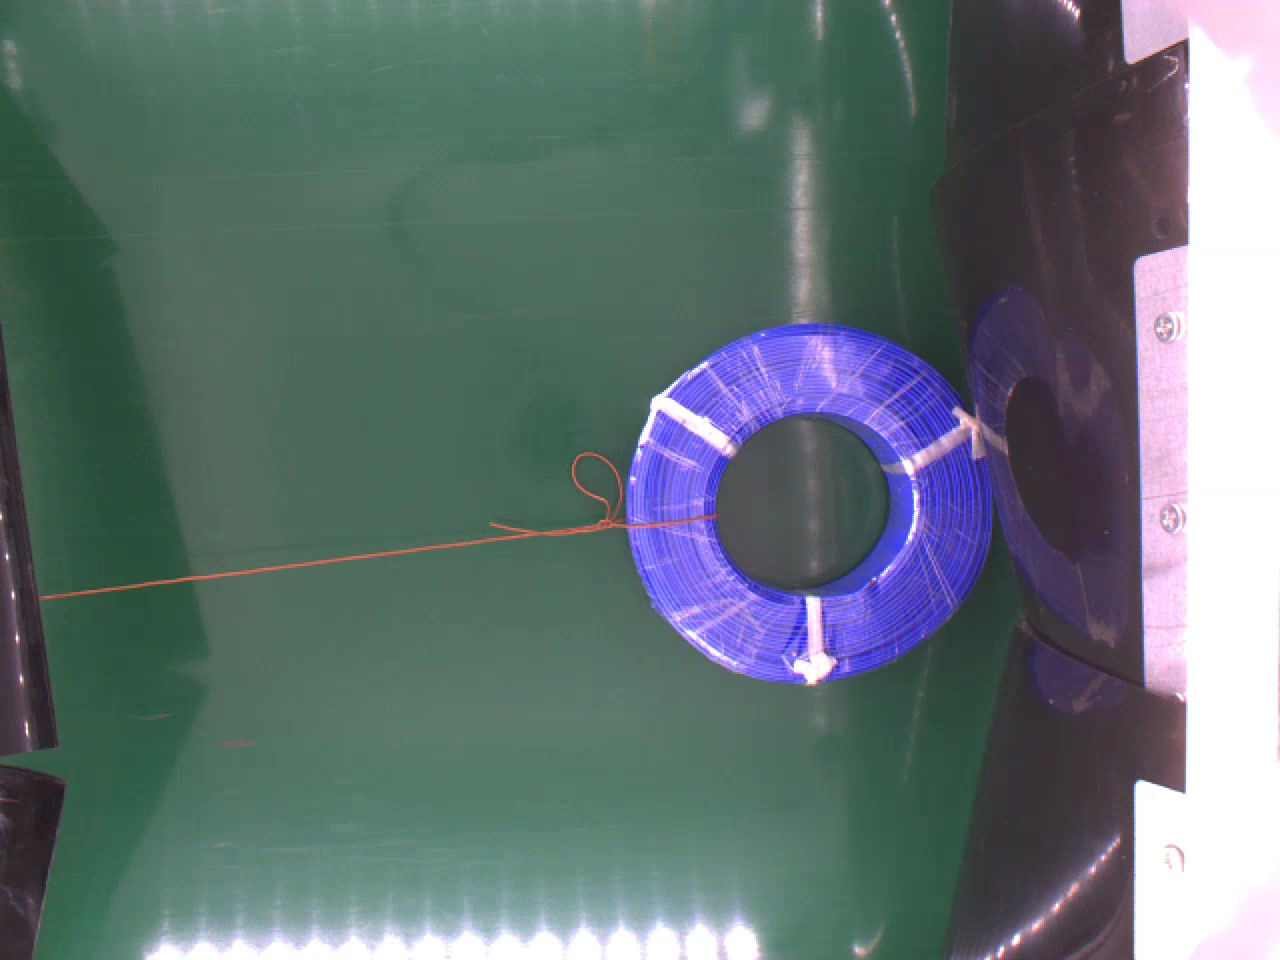blue: (622, 316, 994, 683)
